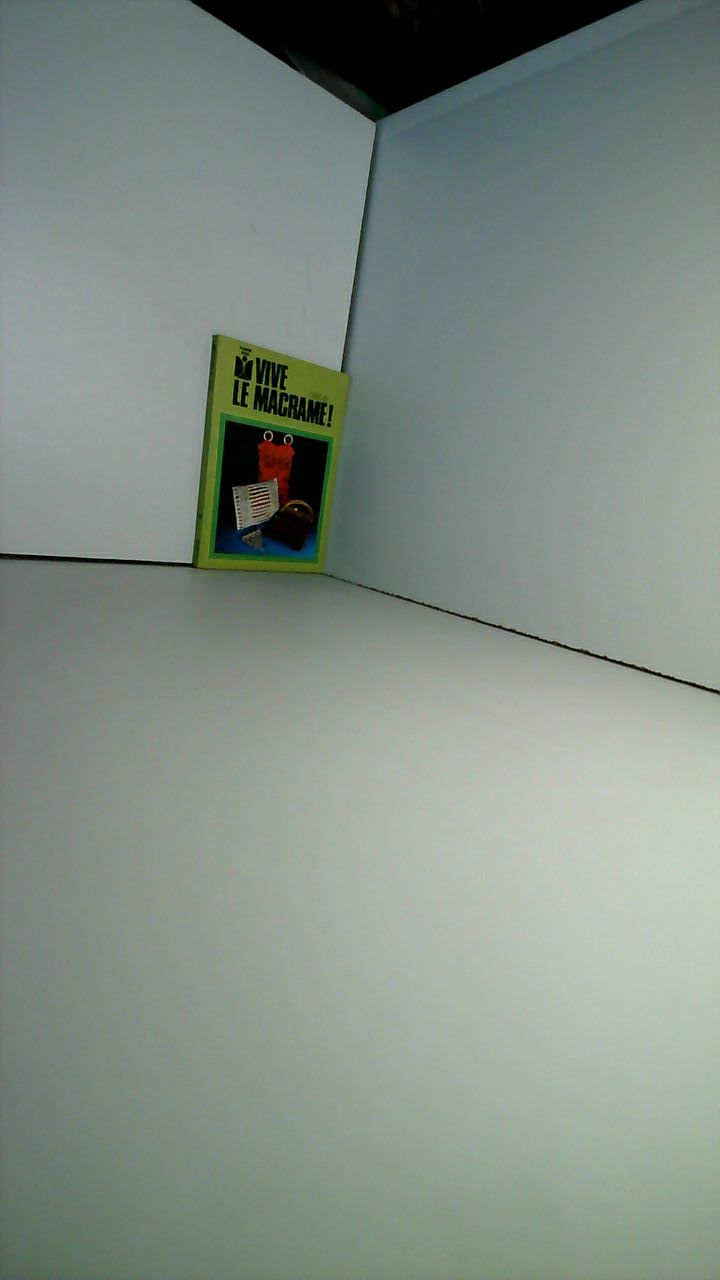book: (179, 325, 367, 595)
